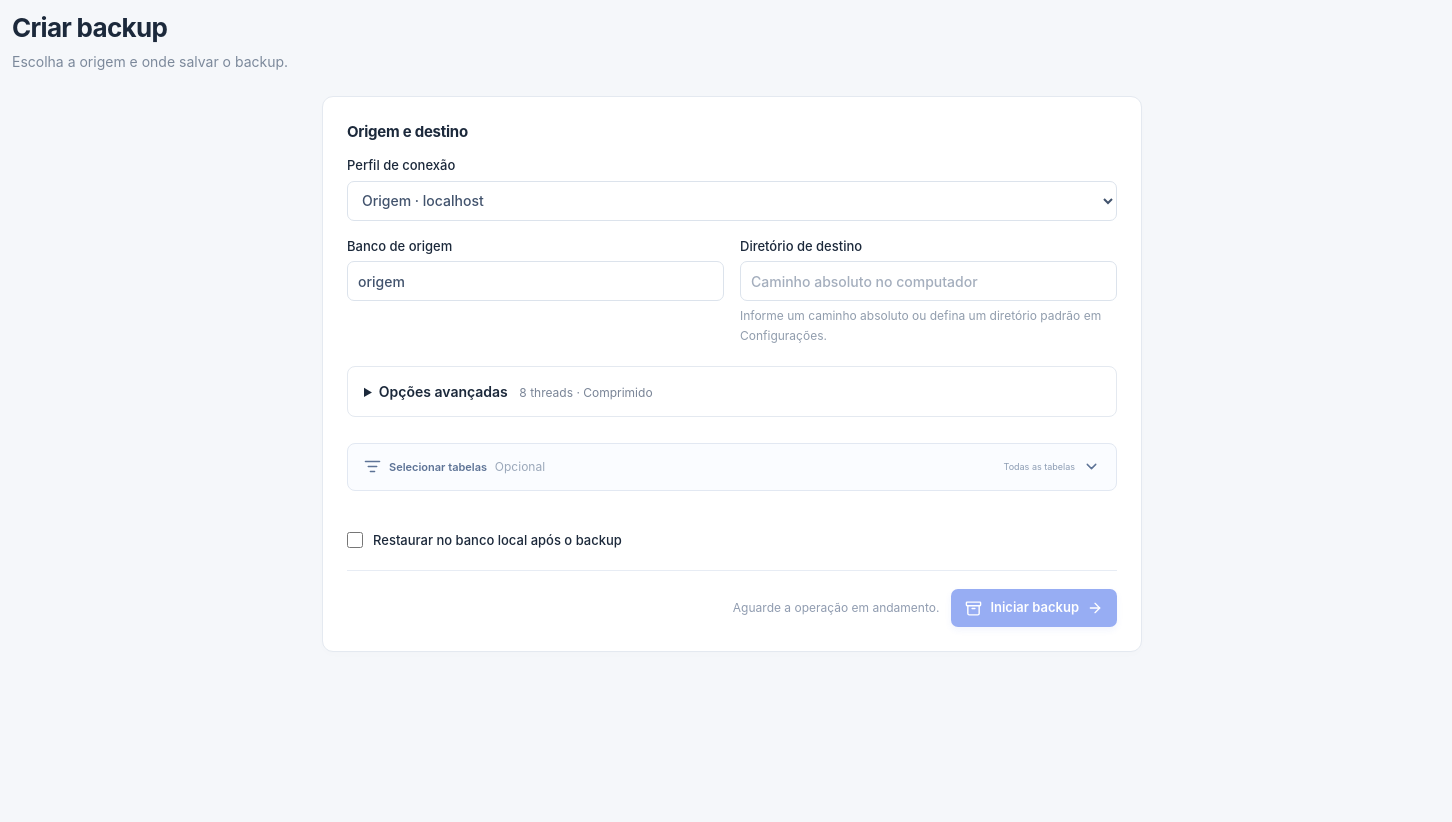
consulta e seleções salvas no backup › explica exclusividade quando outra operação impede a consulta
The image size is (1452, 822).
Click the button "Selecionar tabelas Opcional Todas as tabelas" at (439, 467), box [348,444,1116,490]
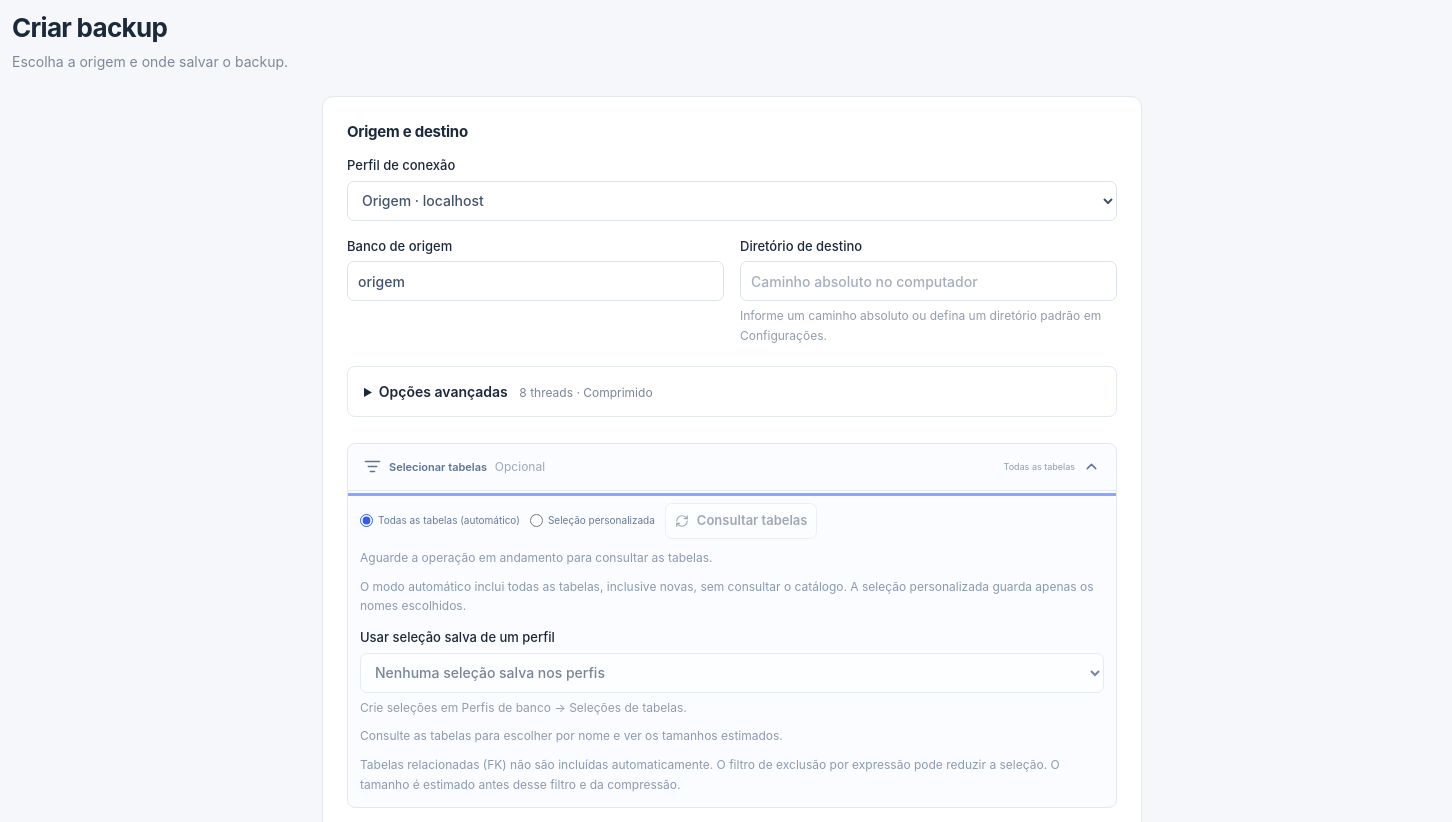
Expected: the button "Consultar tabelas" is disabled, [665,503,818,539]
Expected: the message shows "Aguarde a operação em andamento", [360,550,712,565]
